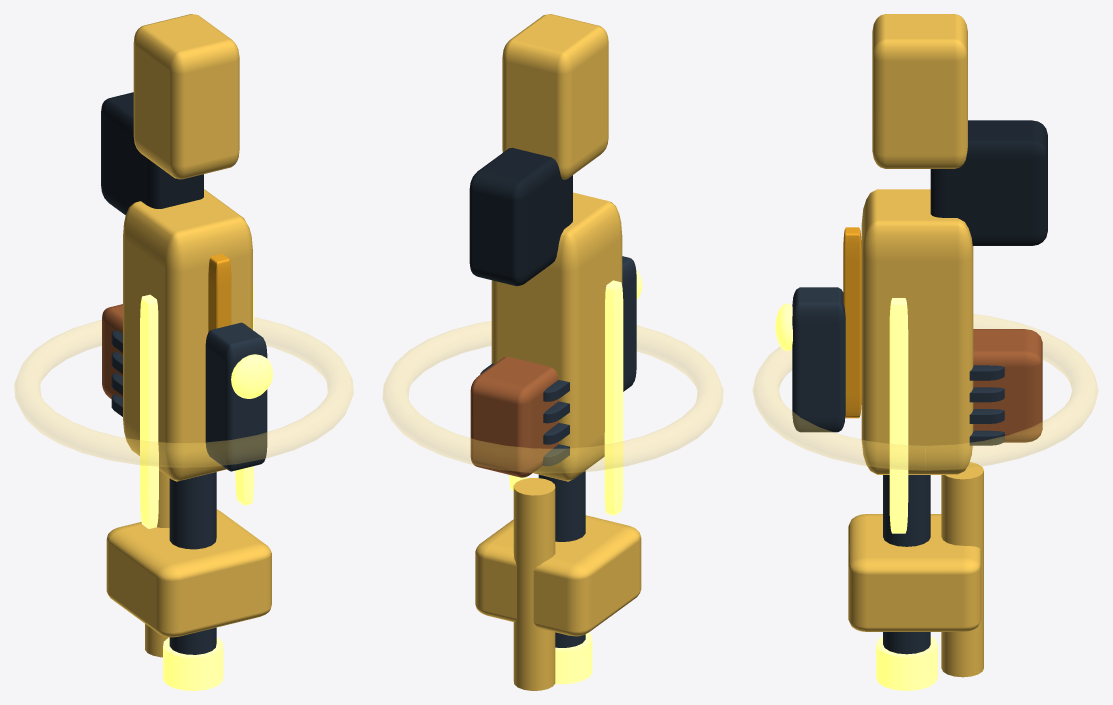
Rendered from shotgun-10.glb.
3 views of the same model, side by side, from view 1: azimuth 30°, elevation 25°; view 2: azimuth 150°, elevation 25°; view 3: azimuth 270°, elevation 25° (orthographic).
Size of the model in its own units: 0.7475 by 1.55 by 0.7475.
